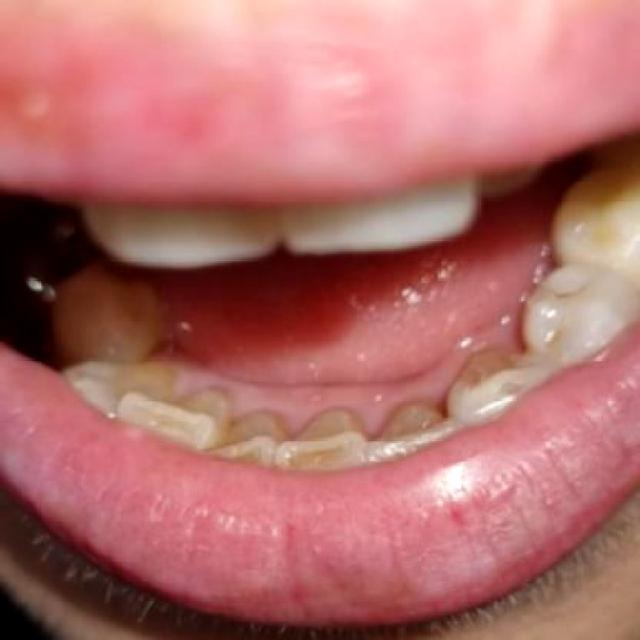Plaque: (540, 278, 594, 301)
